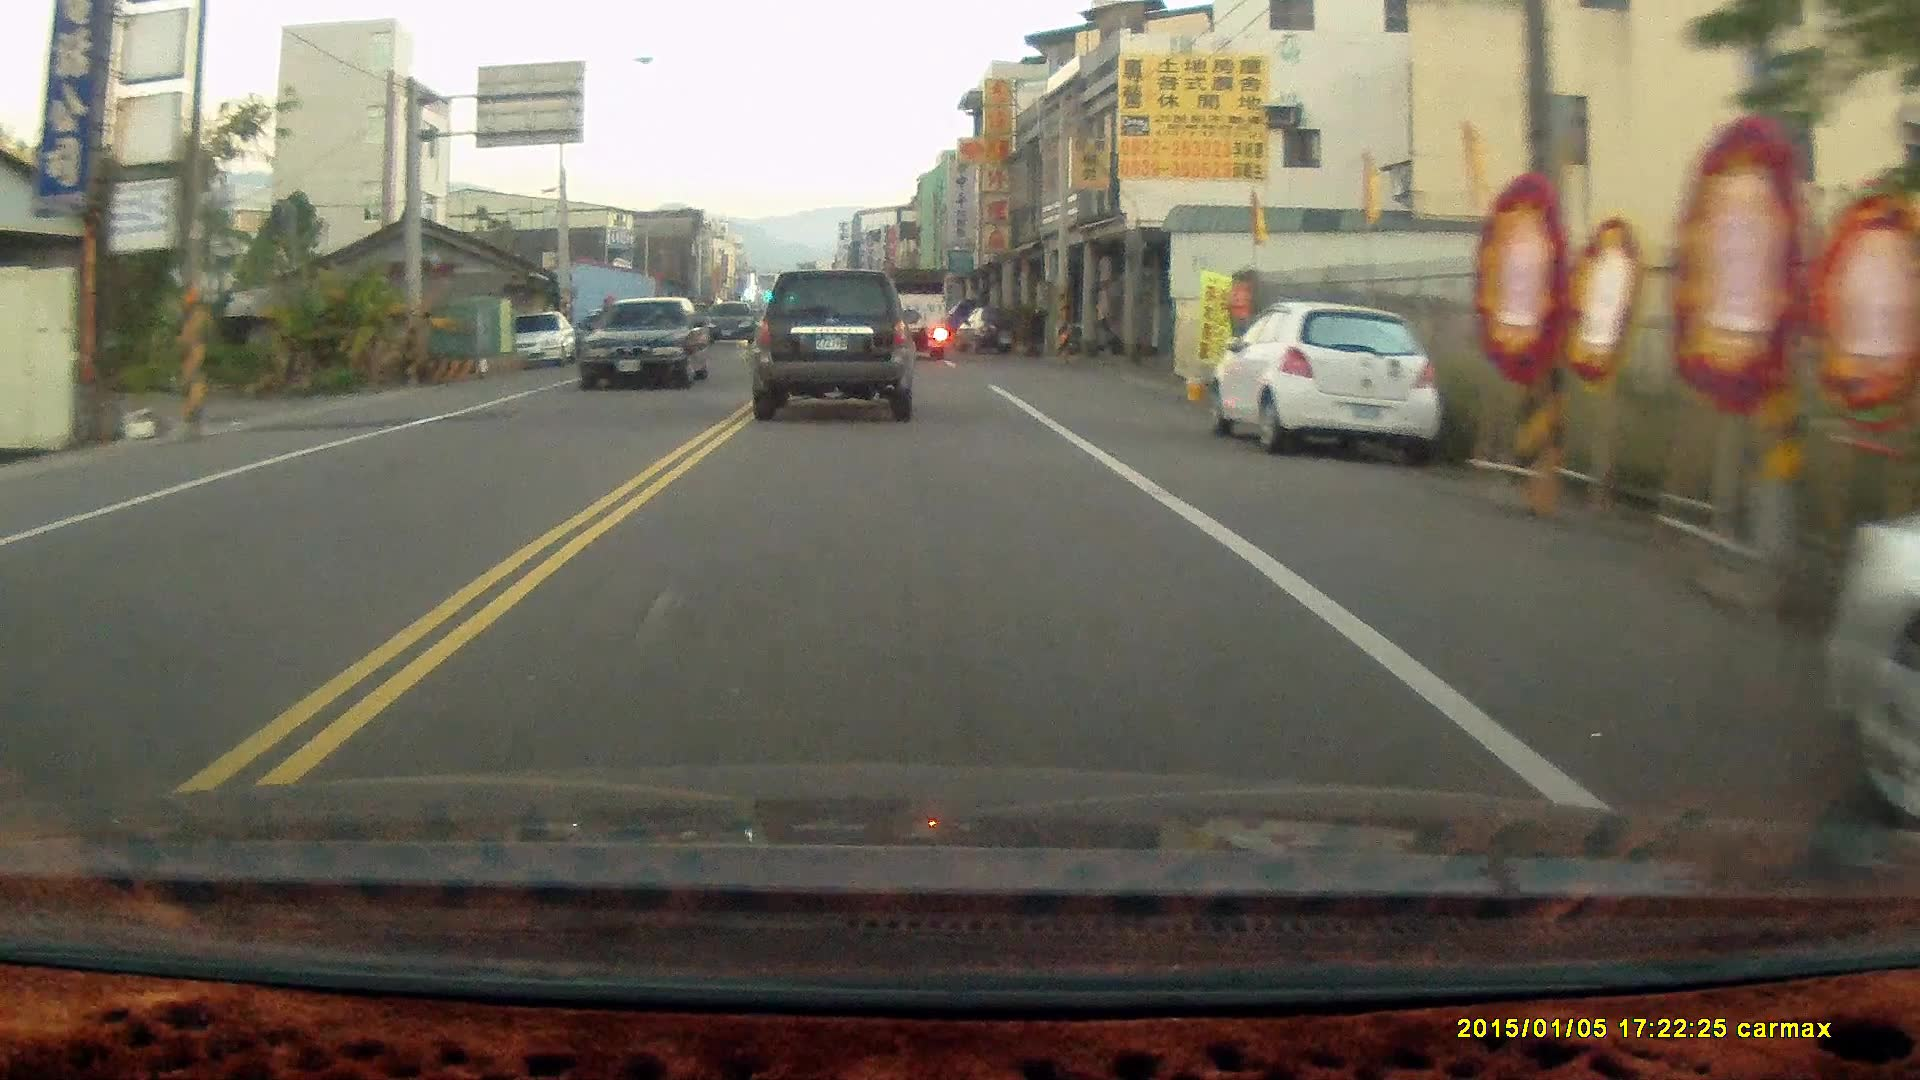vehicle: (1215, 299, 1440, 468), (746, 269, 918, 425), (582, 293, 719, 392), (877, 262, 953, 359), (496, 310, 578, 368)
